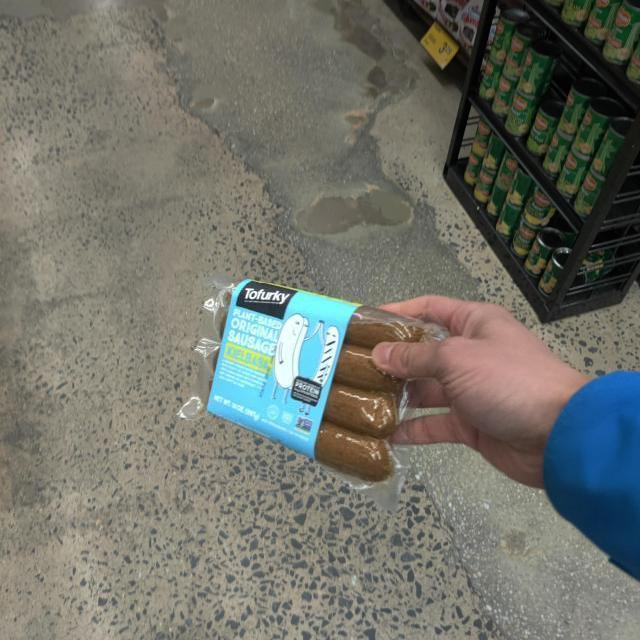Meat: (197, 284, 449, 499)
